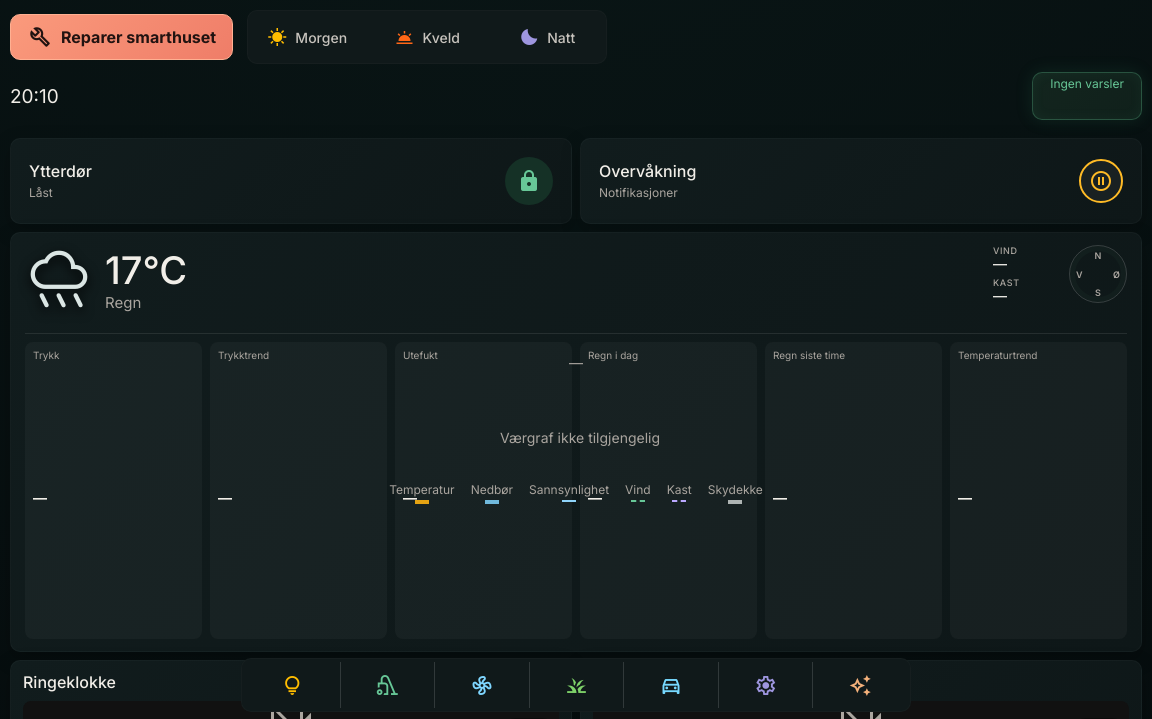
redesigned dashboard › keeps owner, guest and admin information out of Barn
Click the button named "Innstillinger".
click(765, 685)  # box [718, 662, 812, 708]
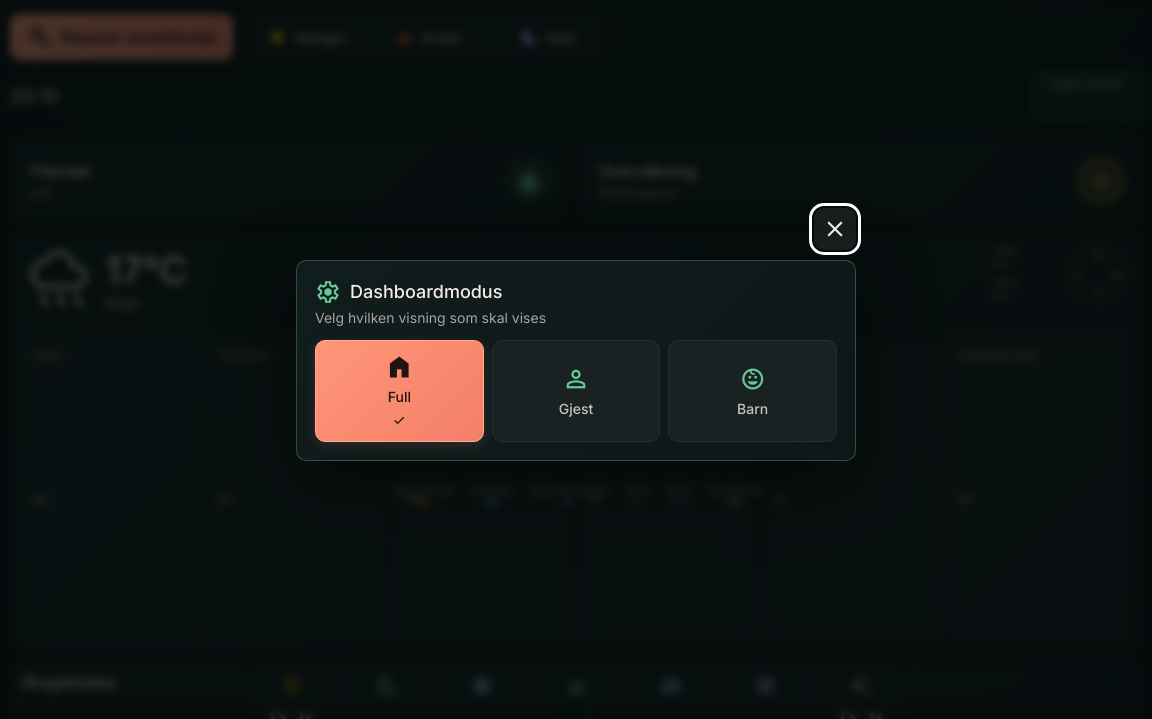
Click the tab "Barn".
click(753, 390)  # box [668, 340, 837, 442]
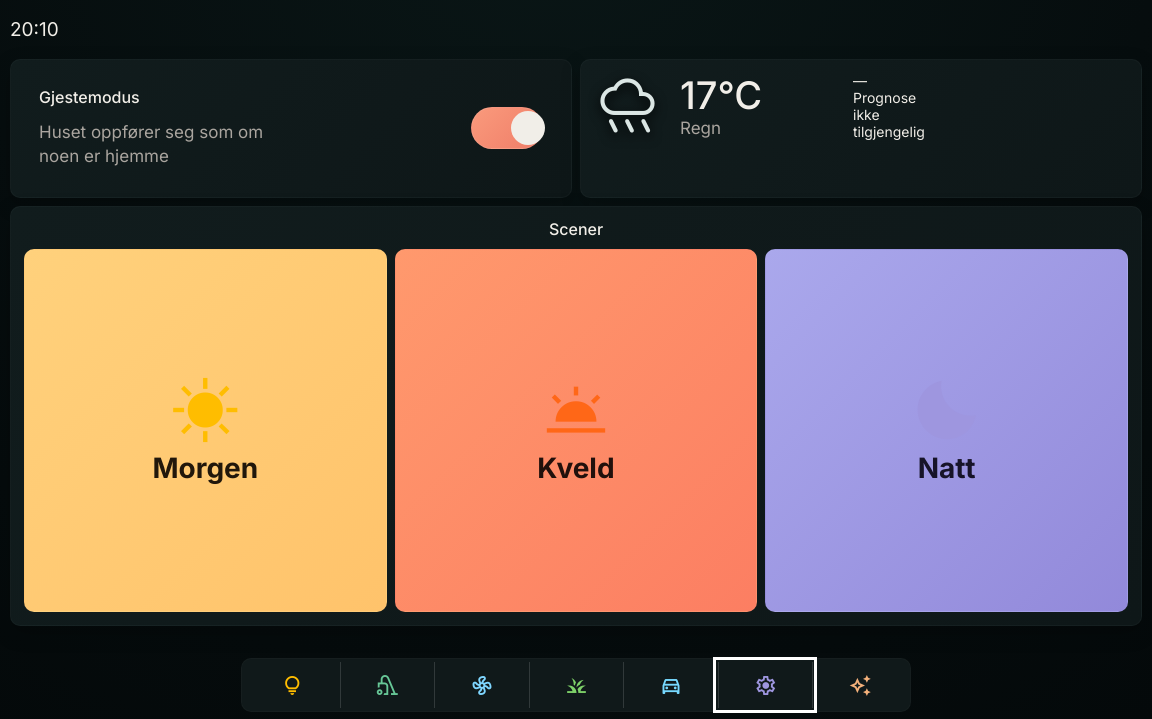
Expected: the button "Morgen" is shown, [24, 249, 387, 612]
Now the button "Reparer smarthuset" is gone
